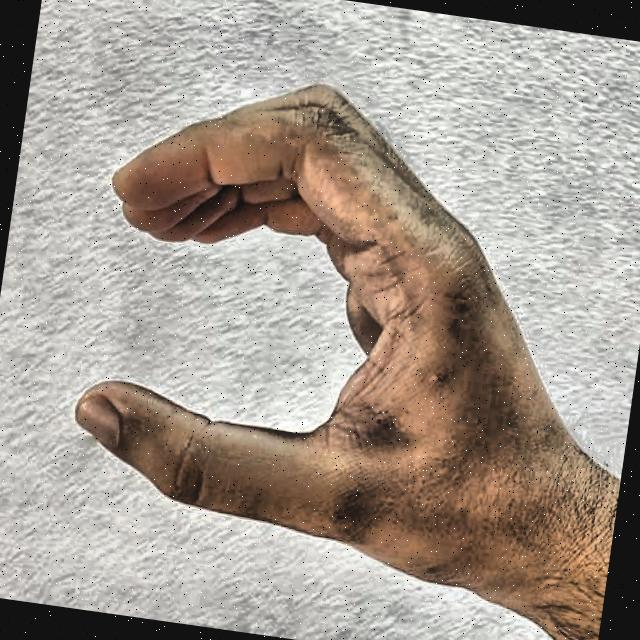Ka: (37, 24, 616, 635)
